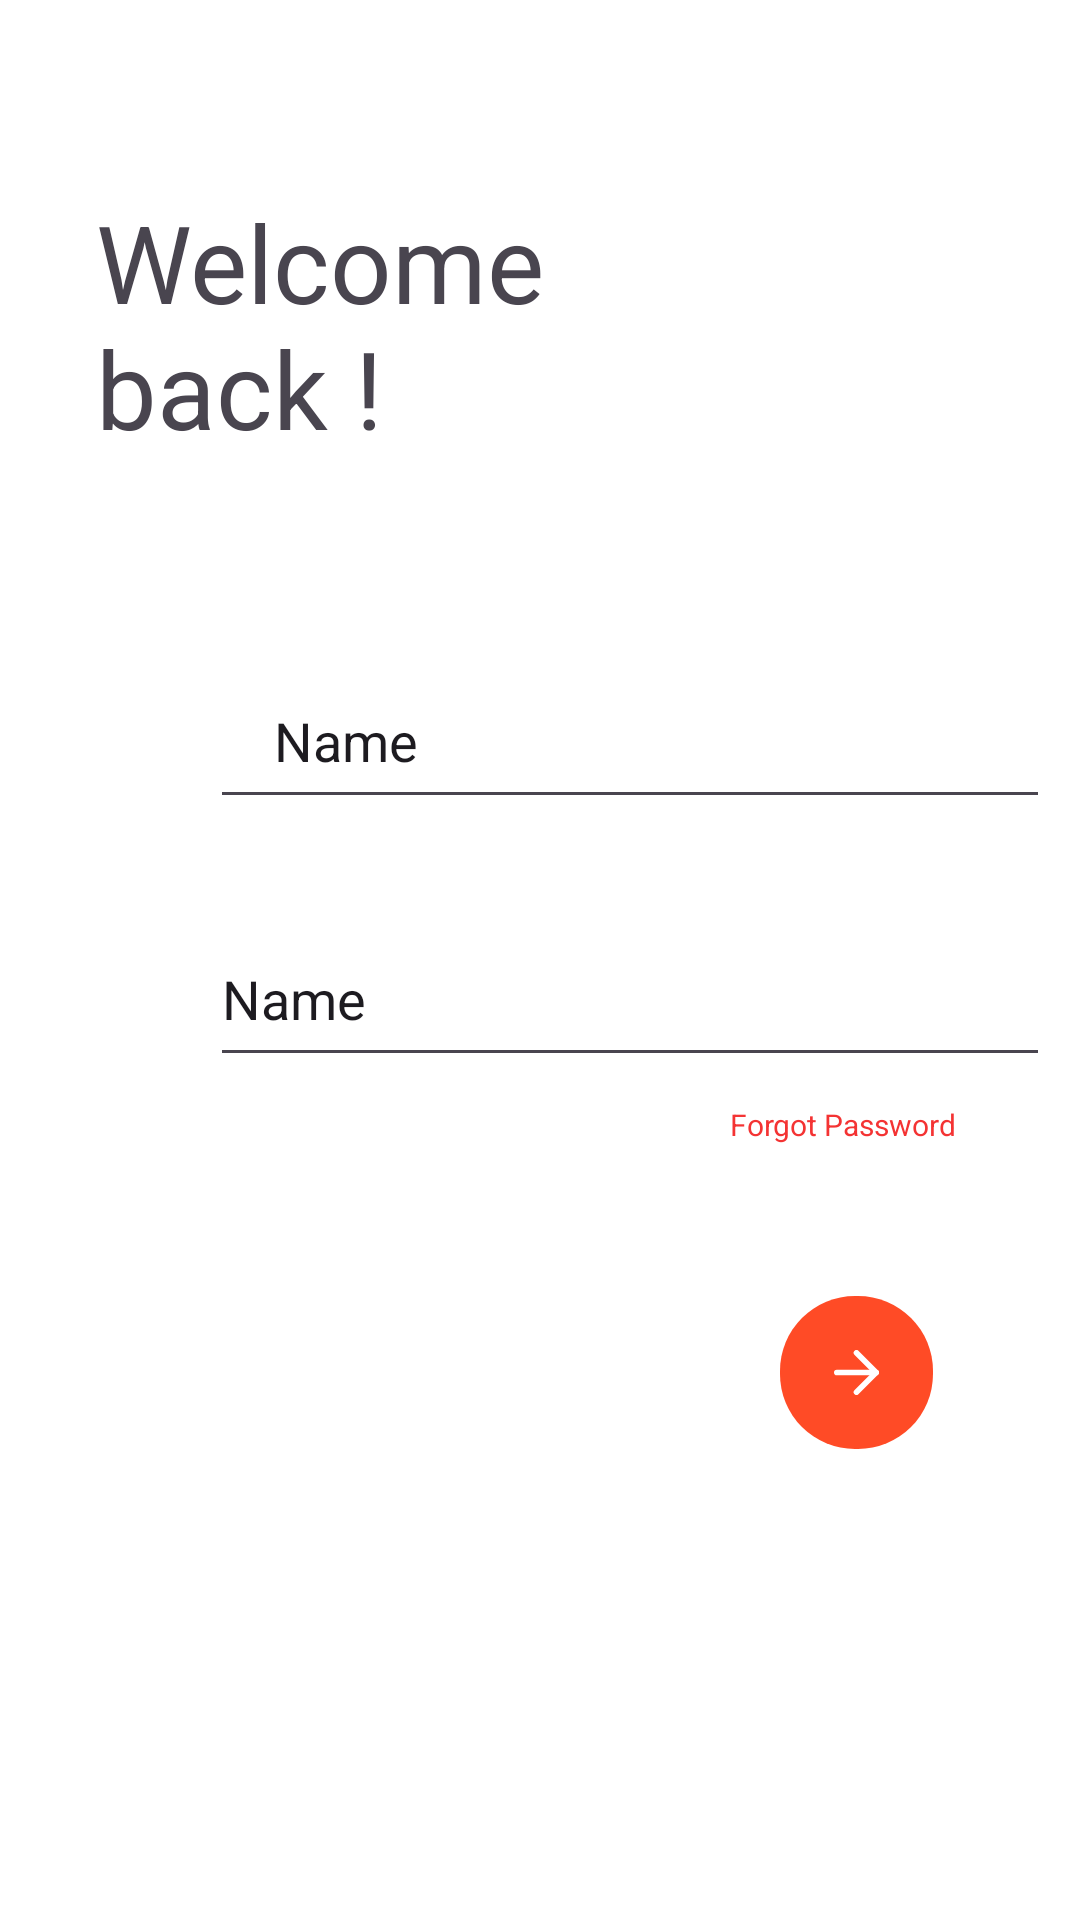

Icons on this 1080 x 1920 Android screen, each with the point to tap as point (x, y):
arrowright: point (856, 1372)
